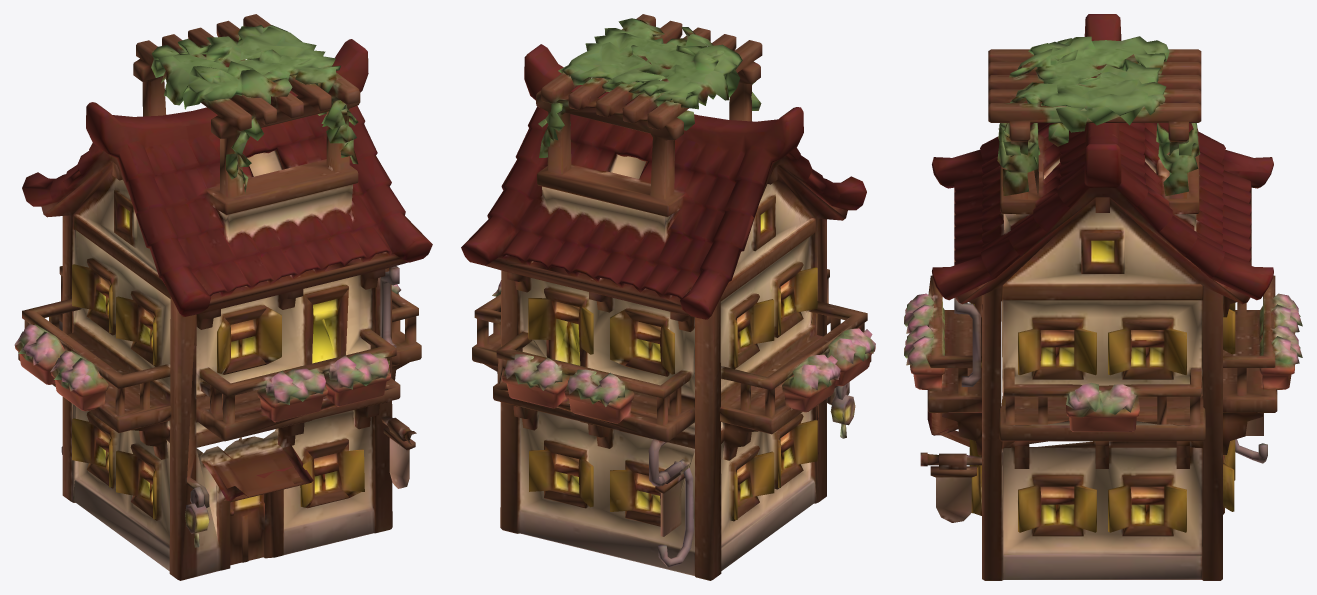
The model's file is gardenhouse_a.glb.
3 renders of one model, left to right at view 1: azimuth 30°, elevation 25°; view 2: azimuth 150°, elevation 25°; view 3: azimuth 270°, elevation 25°, orthographic. The views are drawn at different scales.
Parts seen in each view (by area): view 1: tripo_node_0827d622-5ef5-4cc3-a8cc-3b59c6f7f74a; view 2: tripo_node_0827d622-5ef5-4cc3-a8cc-3b59c6f7f74a; view 3: tripo_node_0827d622-5ef5-4cc3-a8cc-3b59c6f7f74a.
Part boxes in pixels (box(x1,y1,x2,y2)): tripo_node_0827d622-5ef5-4cc3-a8cc-3b59c6f7f74a: box(14, 14, 432, 580); tripo_node_0827d622-5ef5-4cc3-a8cc-3b59c6f7f74a: box(461, 14, 875, 580); tripo_node_0827d622-5ef5-4cc3-a8cc-3b59c6f7f74a: box(904, 14, 1302, 580).
Size of the model in its own units: 0.7753 by 0.9782 by 0.7447.
1 material, 1 textured.
